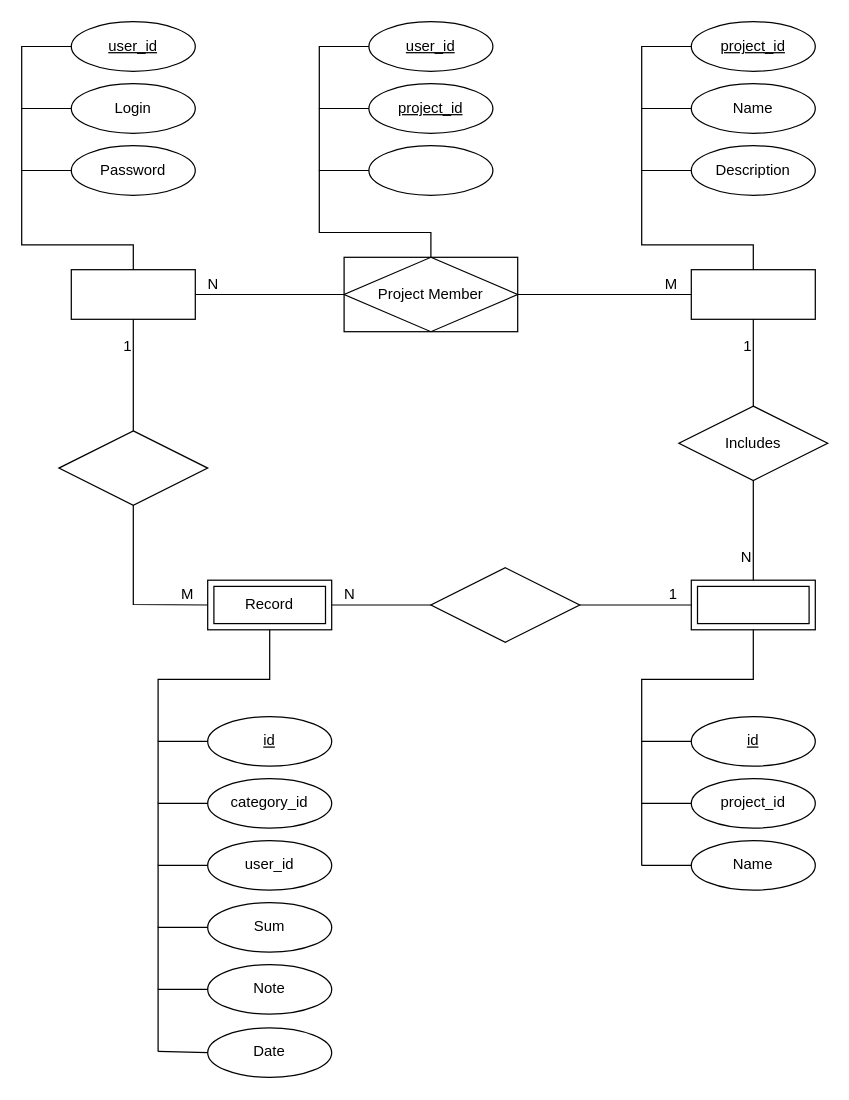
The diagram is 849 pixels wide and 1100 high, and some of its shapes have lost their labels. Here are the shapes that lost their labels. From the top down, the box of each, then its label:
(368, 144, 493, 195): Status
(70, 268, 195, 319): User
(690, 268, 815, 319): Project
(58, 430, 208, 505): Creates
(430, 567, 580, 642): Related to
(690, 579, 815, 630): Category
